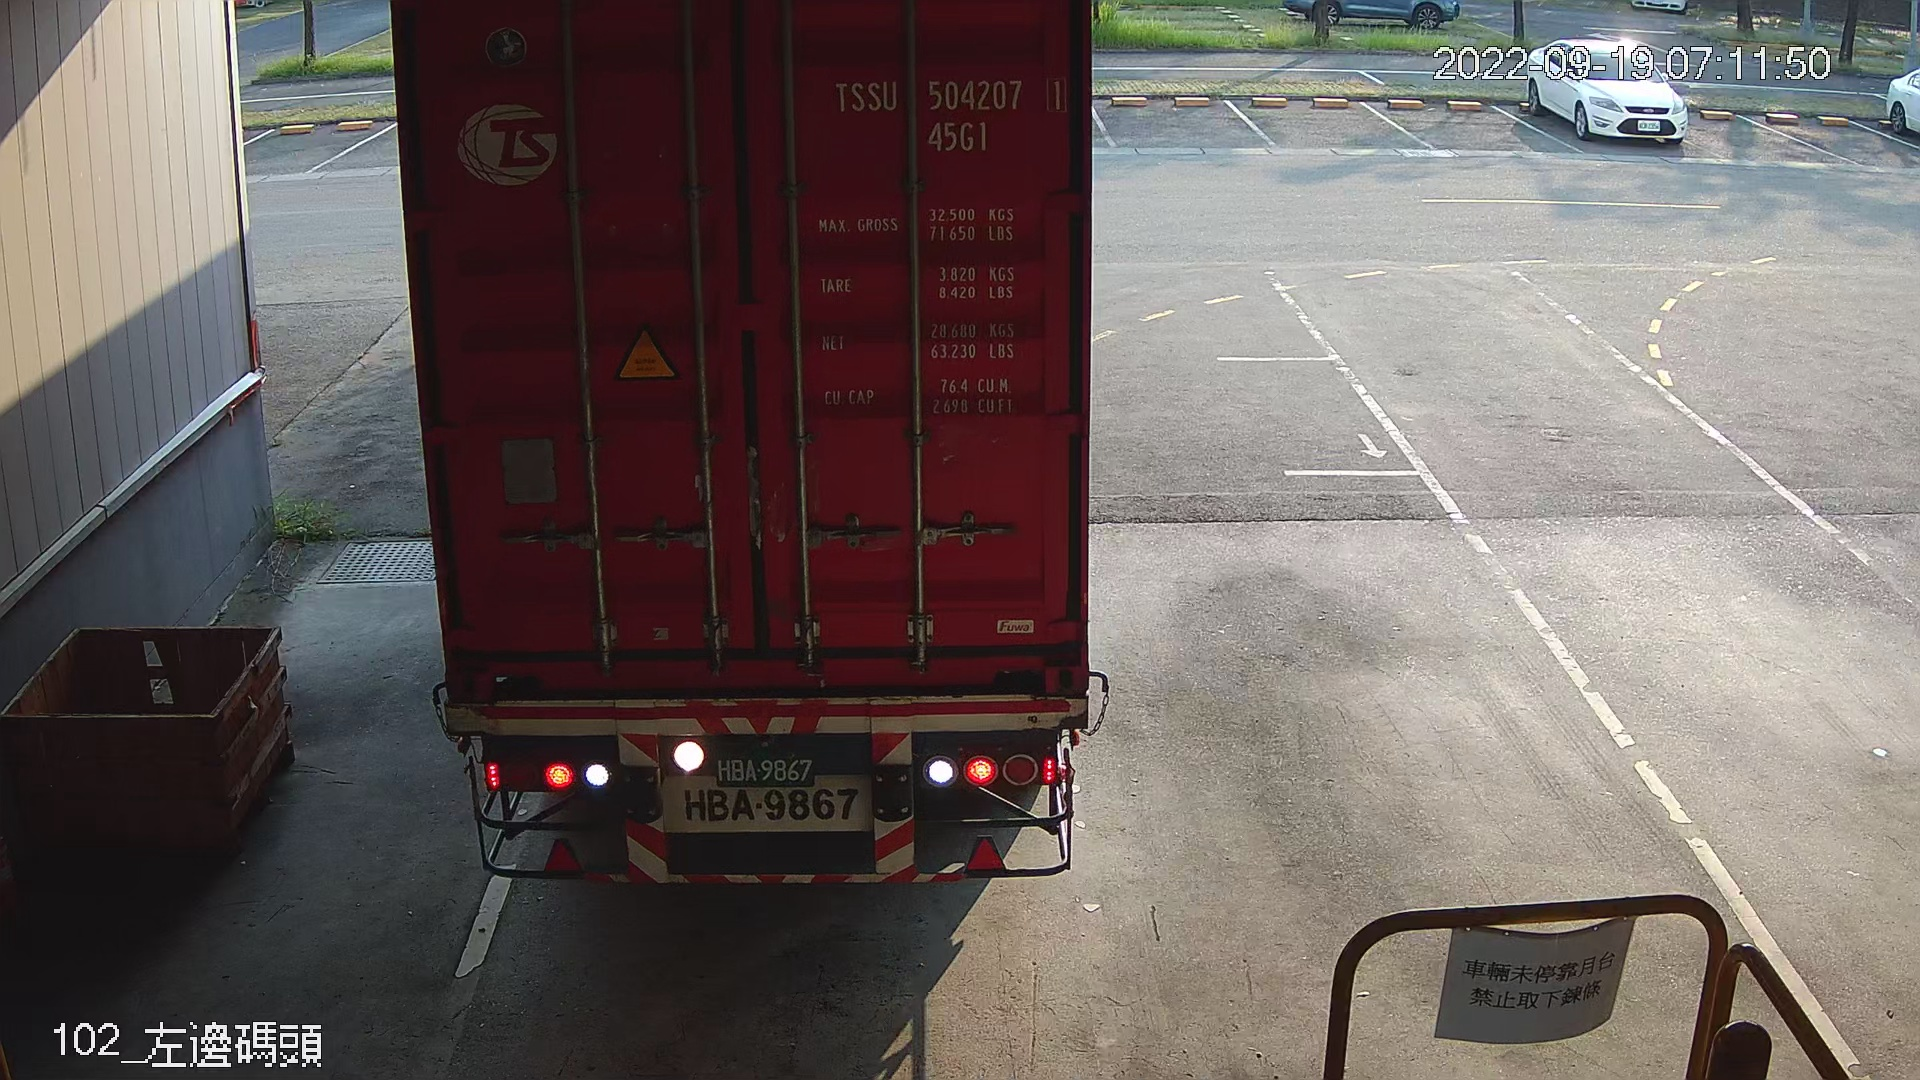container: (819, 61, 1075, 161)
